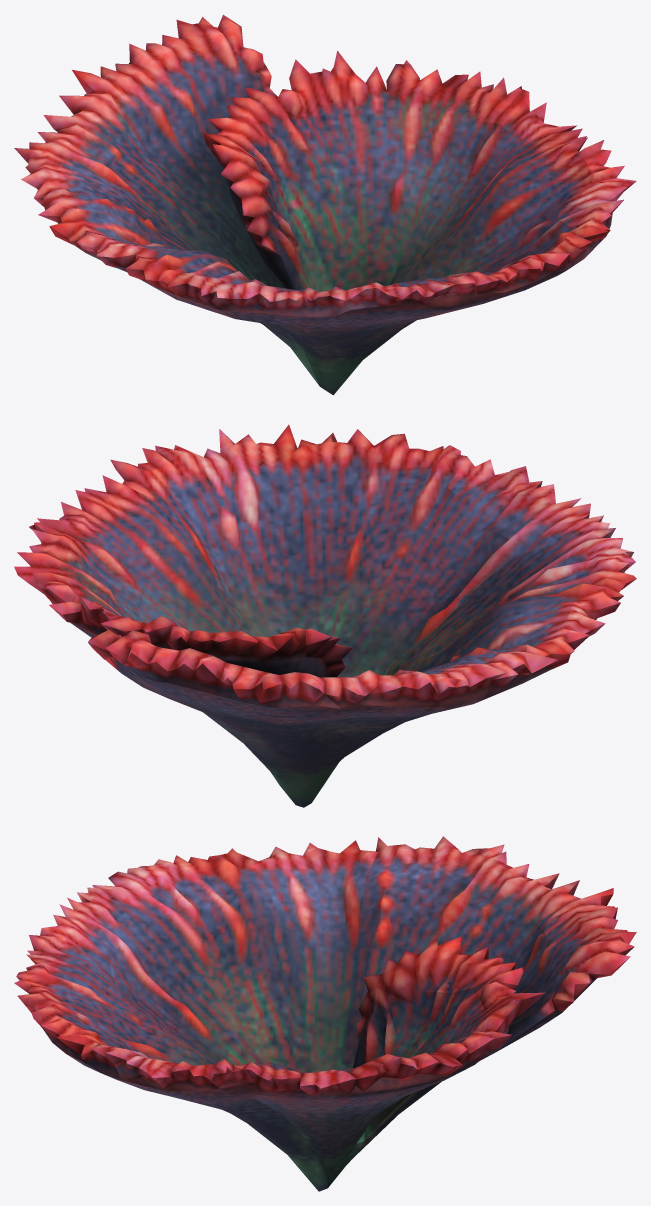
File: Coral13.fbx
3 renders of one model, top to bottom at view 1: azimuth 30°, elevation 25°; view 2: azimuth 150°, elevation 25°; view 3: azimuth 270°, elevation 25°, orthographic. The views are drawn at different scales.
Parts seen in each view (by area): view 1: Coral7_2; view 2: Coral7_2; view 3: Coral7_2.
Boxes of the visible parts, box(x1,y1,x2,y2) form: Coral7_2: box(14, 14, 636, 395); Coral7_2: box(14, 424, 636, 807); Coral7_2: box(14, 836, 636, 1191).
Size of the model in its own units: 127 by 62.96 by 136.
